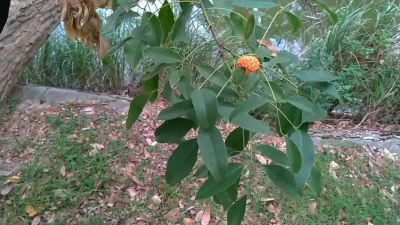eggs: (238, 51, 261, 75)
